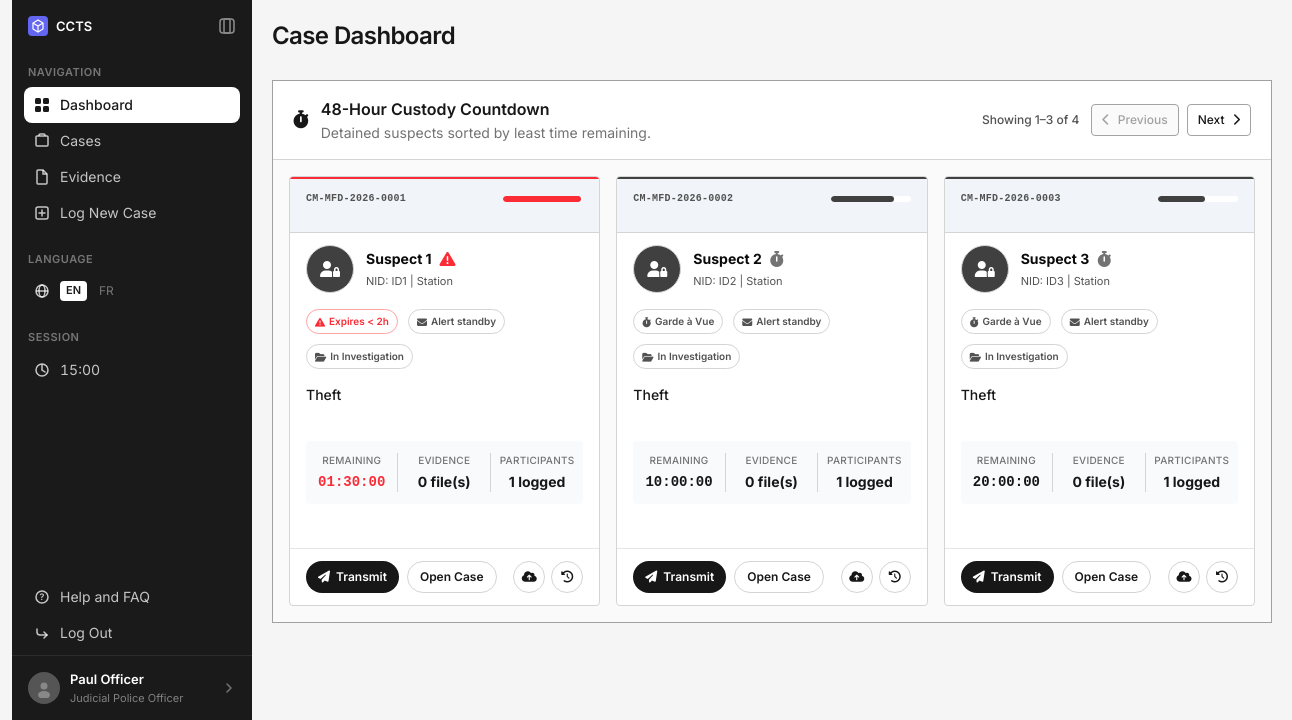
P1 dashboard › Pattern A: three custody cards per page, red only under 2 hours
Expected: the number of elements with test id "custody-card" is 3, [289,176,600,606]; [616,176,928,606]; [944,176,1255,606]
Expected: the text "Expires < 2h" is shown, [306,309,398,334]
Click the button "Next".
click(1219, 120)  # box [1187,104,1251,136]
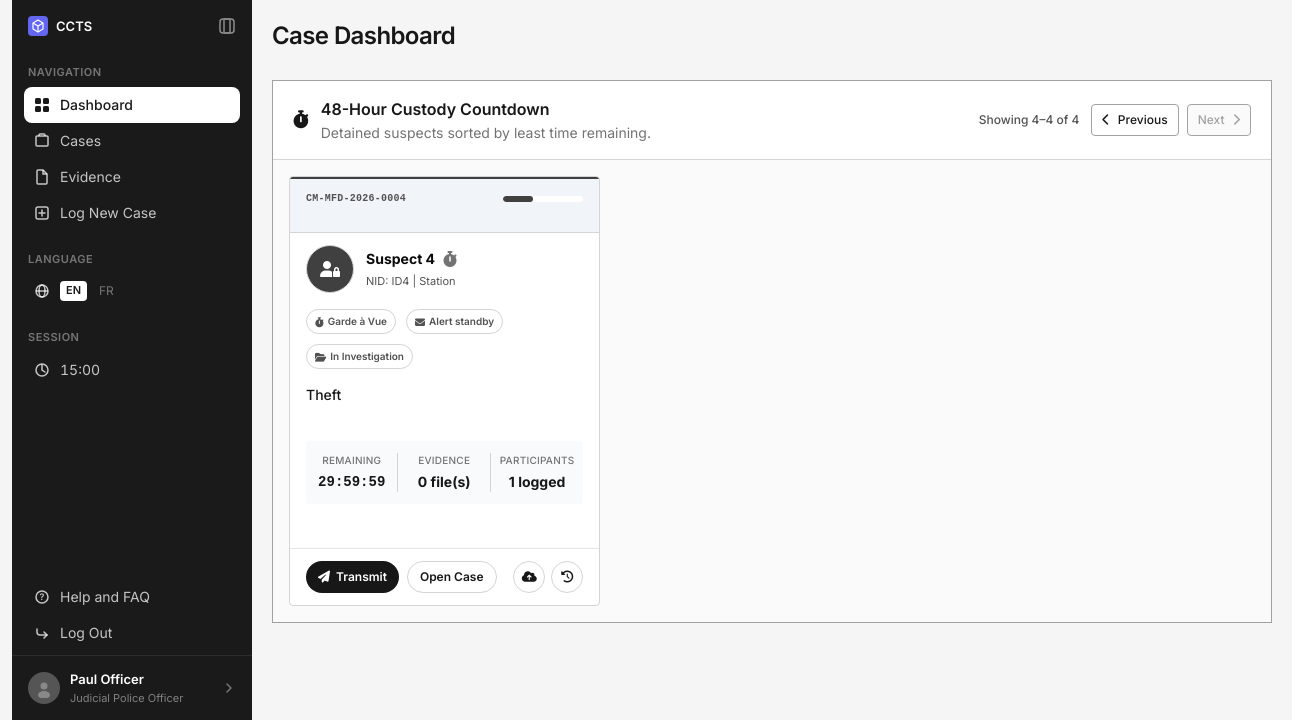
Expected: the number of elements with test id "custody-card" is 1, [289,176,600,606]
Expected: the text "Showing 4–4 of 4" is shown, [979,112,1079,128]
